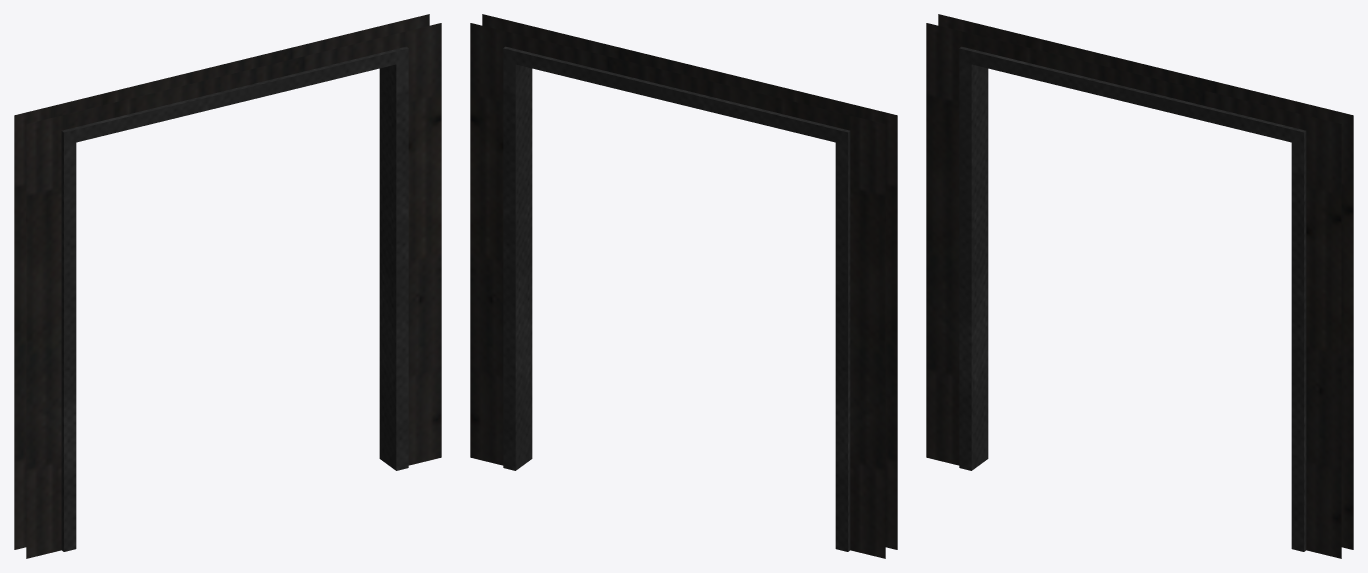
The model's file is doorway_wide_1.fbx.
3 views of the same model, side by side, from view 1: azimuth 30°, elevation 25°; view 2: azimuth 150°, elevation 25°; view 3: azimuth 330°, elevation 25° (orthographic).
Visible parts, largest first — view 1: doorway_wide_1; view 2: doorway_wide_1; view 3: doorway_wide_1.
Boxes of the visible parts, <box> form: doorway_wide_1: <box>14,14,441,558</box>; doorway_wide_1: <box>470,14,897,558</box>; doorway_wide_1: <box>926,14,1353,558</box>.
Size of the model in its own units: 200 by 200 by 14.
